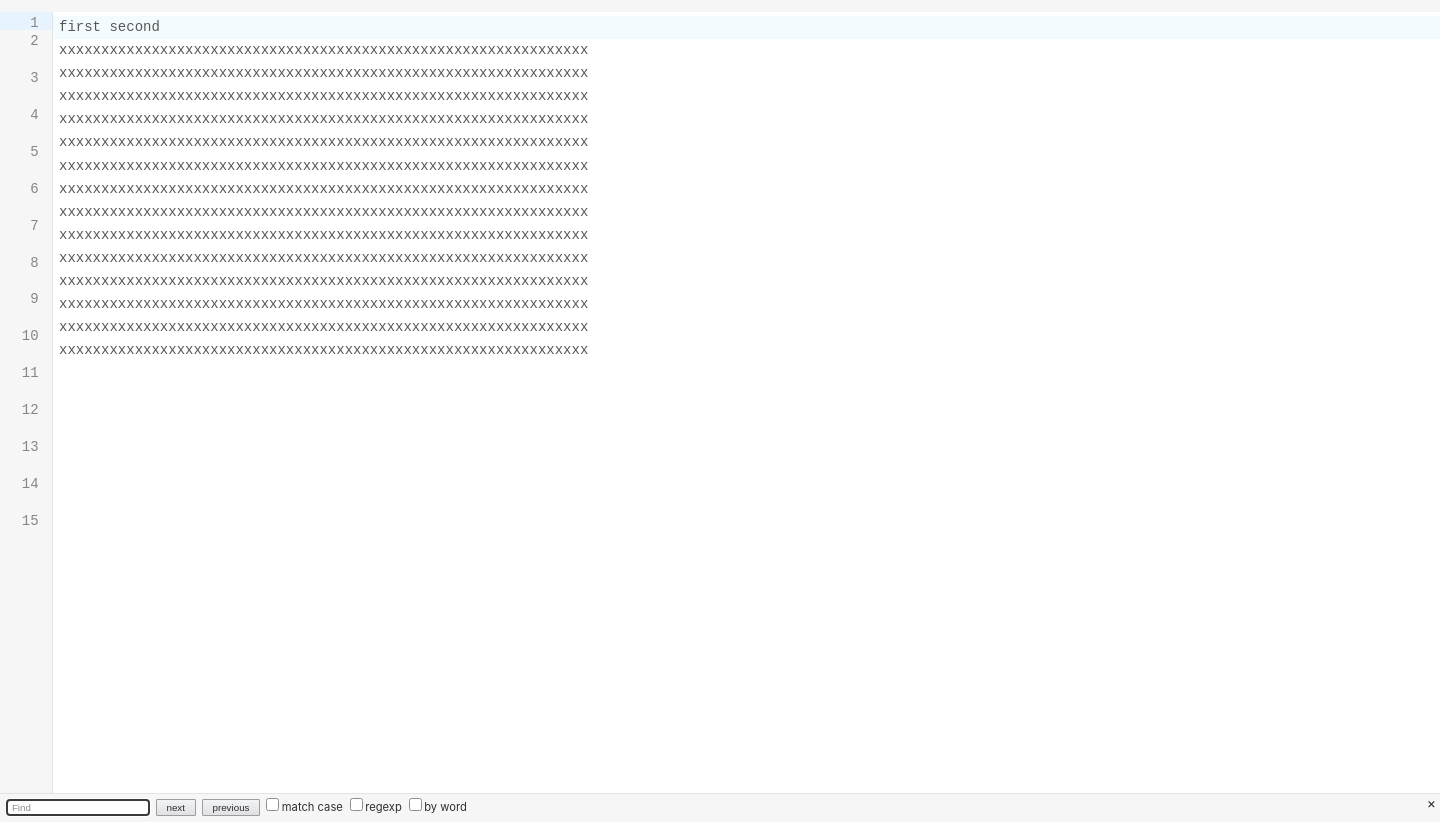
Test: read-only attachment asynchronous search panel › stops a timed out expression without falling back to synchronous scanning
The width and height of the screenshot is (1440, 822).
Type "second" into the field named "search".
click(78, 808); type("second")  # box [6,799,150,816]
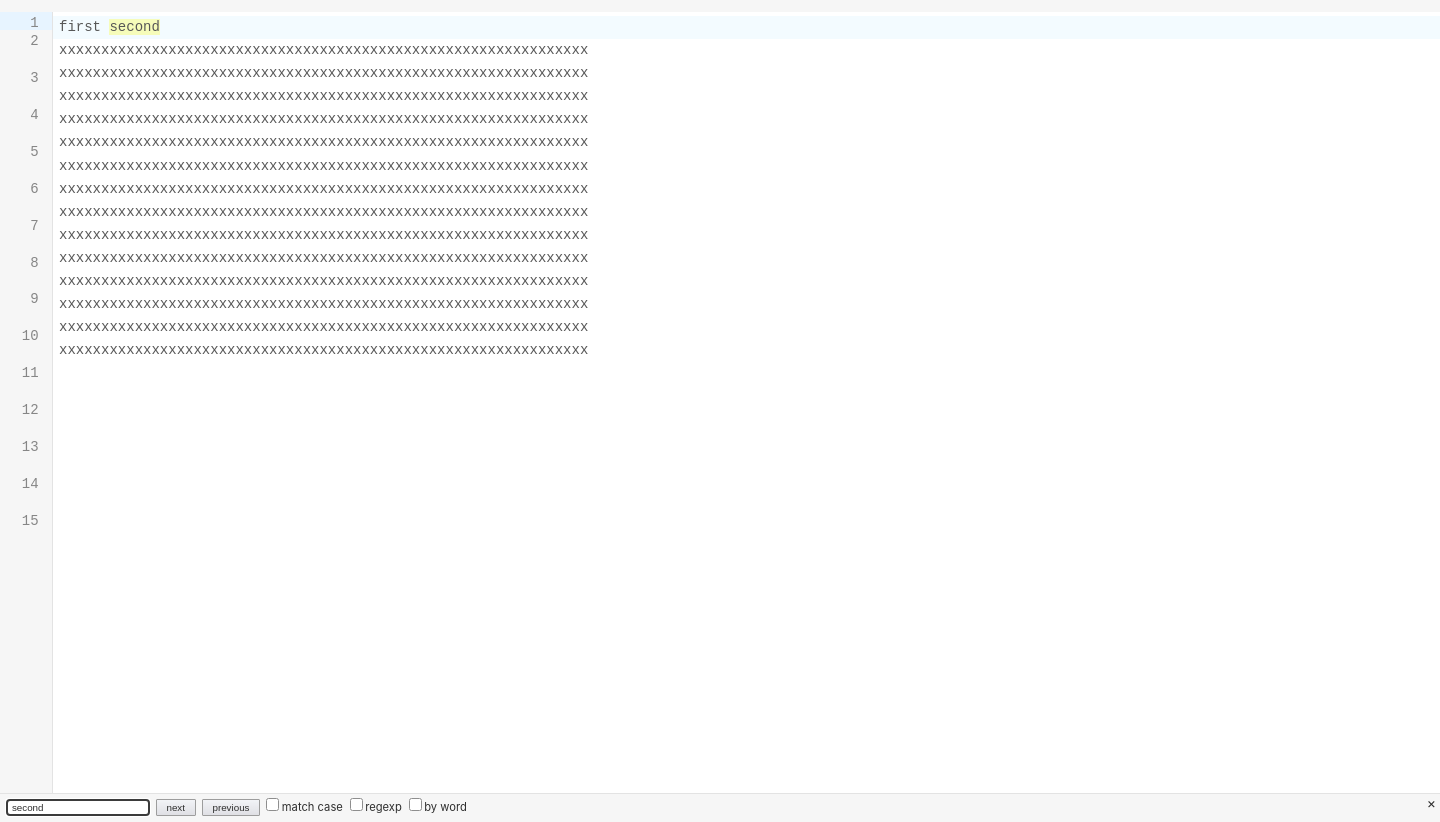
Press Enter in the field named "search", box [6,799,150,816]
Wait 30000 ms
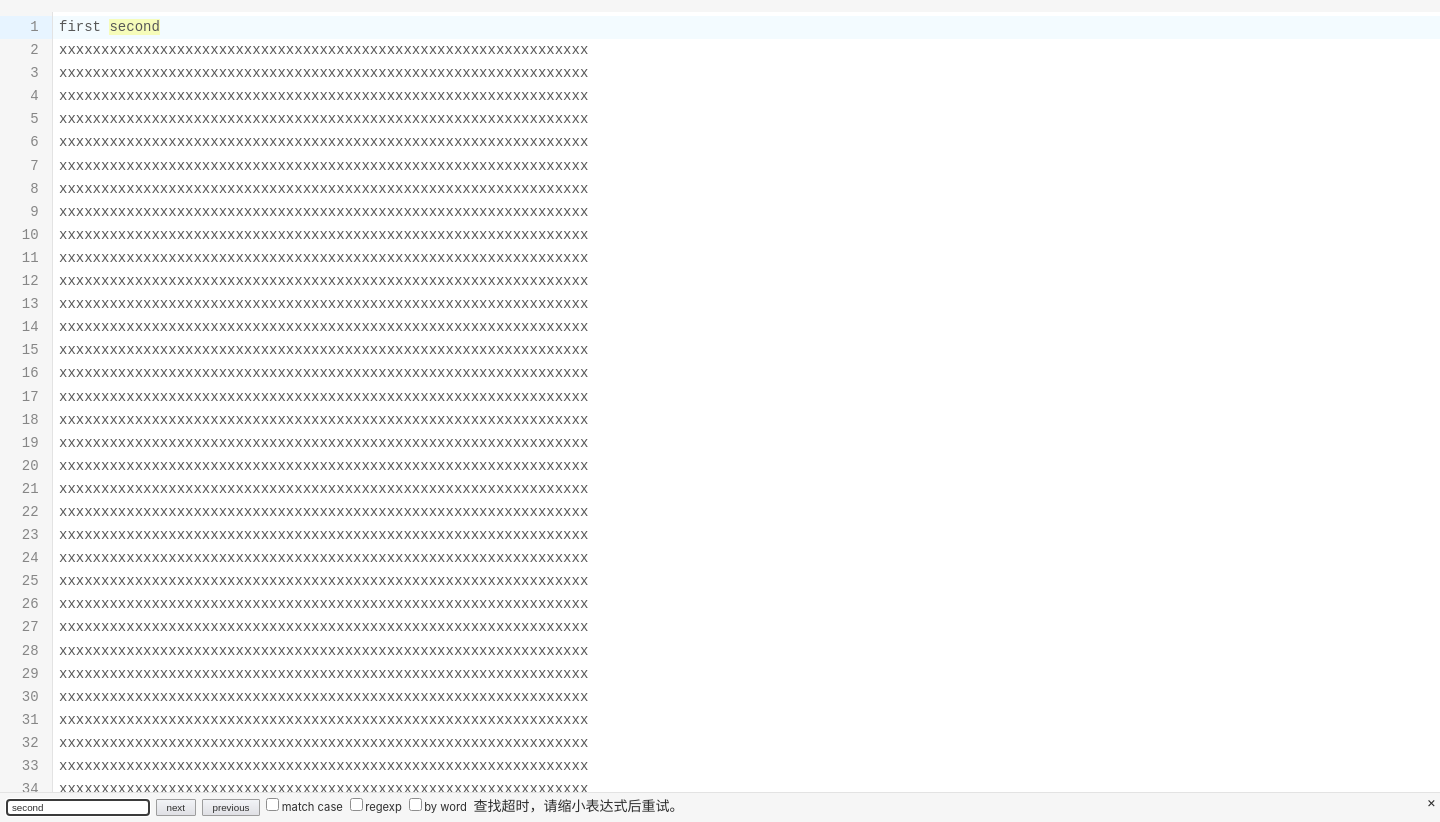
Expected: the message "查找超时，请缩小表达式后重试。" is shown, [474,797,684,814]
